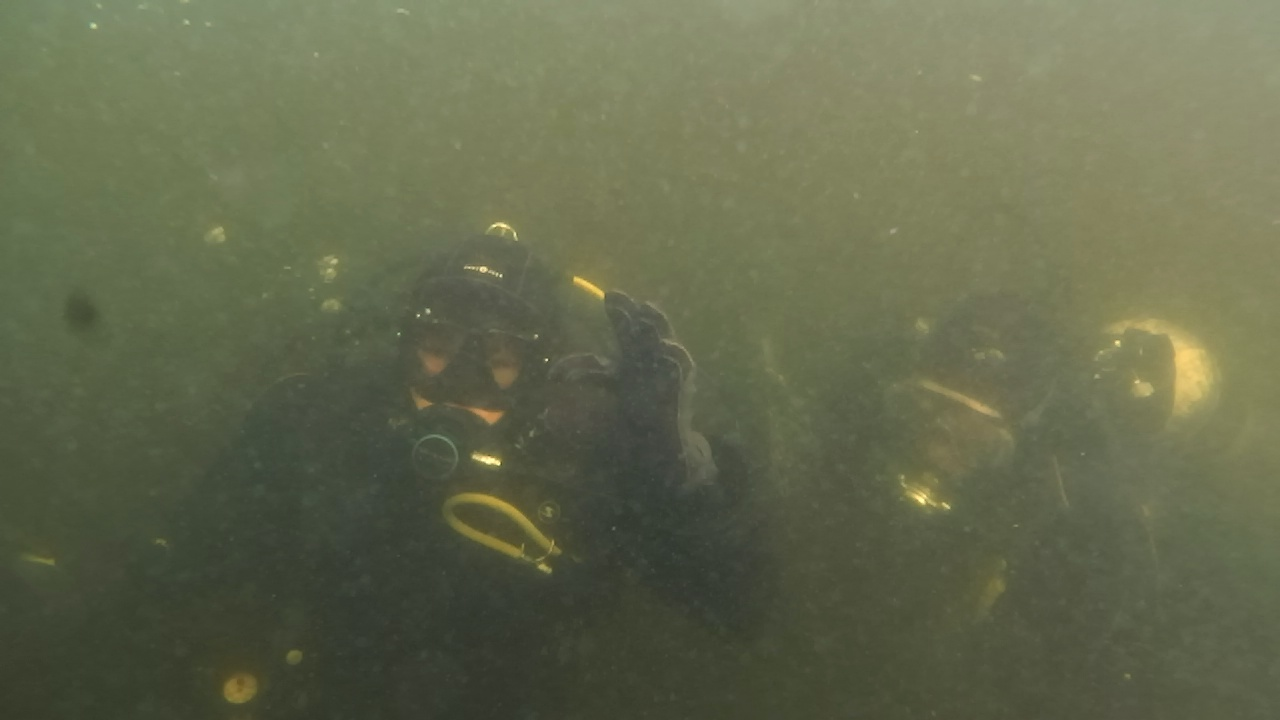Diver: (208, 210, 764, 666), (834, 262, 1274, 694)
Hand: (550, 290, 728, 526)
Head: (860, 312, 1068, 548), (370, 252, 570, 472)
